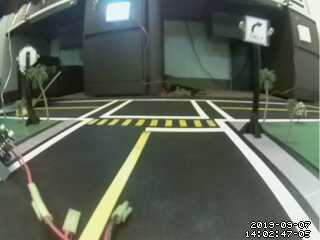Right_only_sign: (239, 10, 271, 53)
